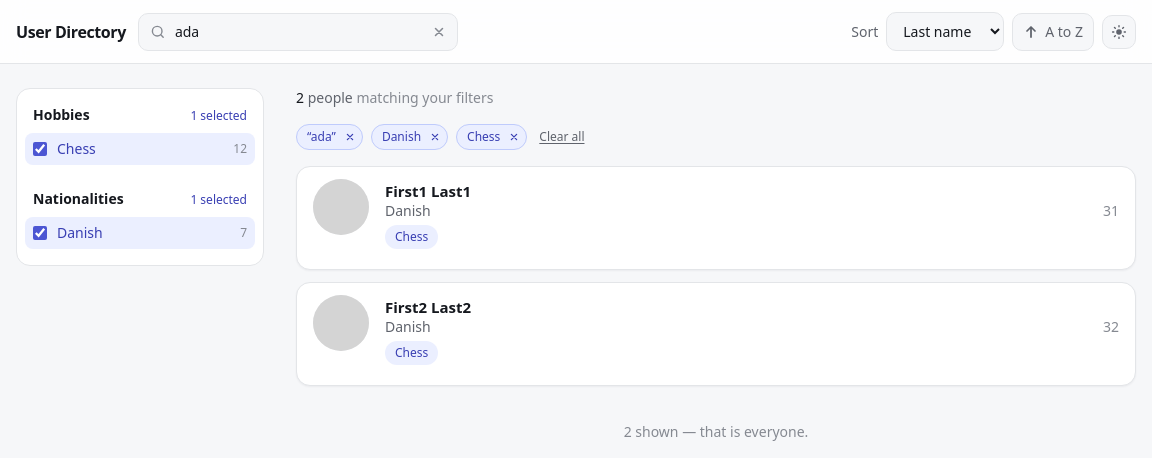
Test: App › filtering from the sidebar › clears every filter at once, including the search text
The image size is (1152, 458).
Click the button "Clear all" at (562, 137), box [539,129,584,145]
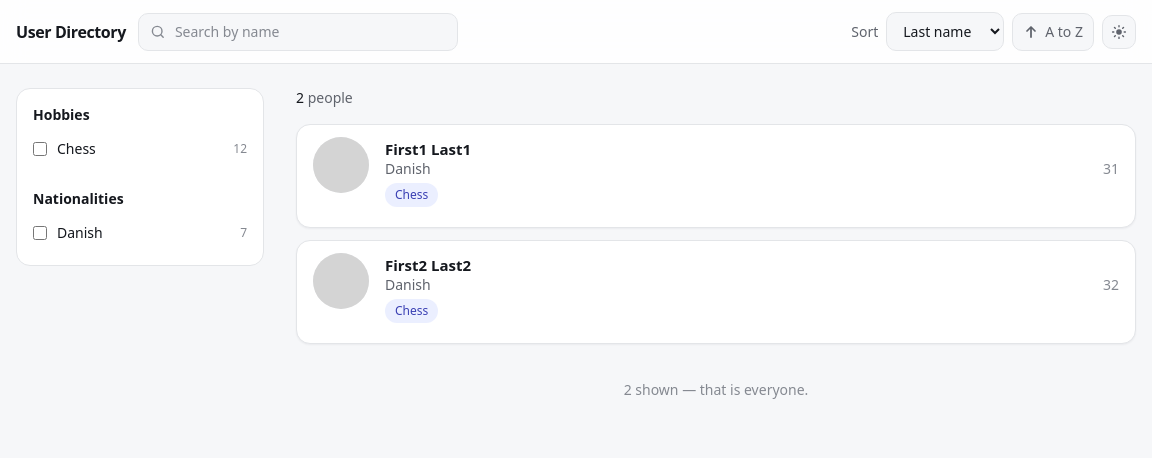
Expected: the search field named "Search by first or last name" is empty, [138,12,458,50]
